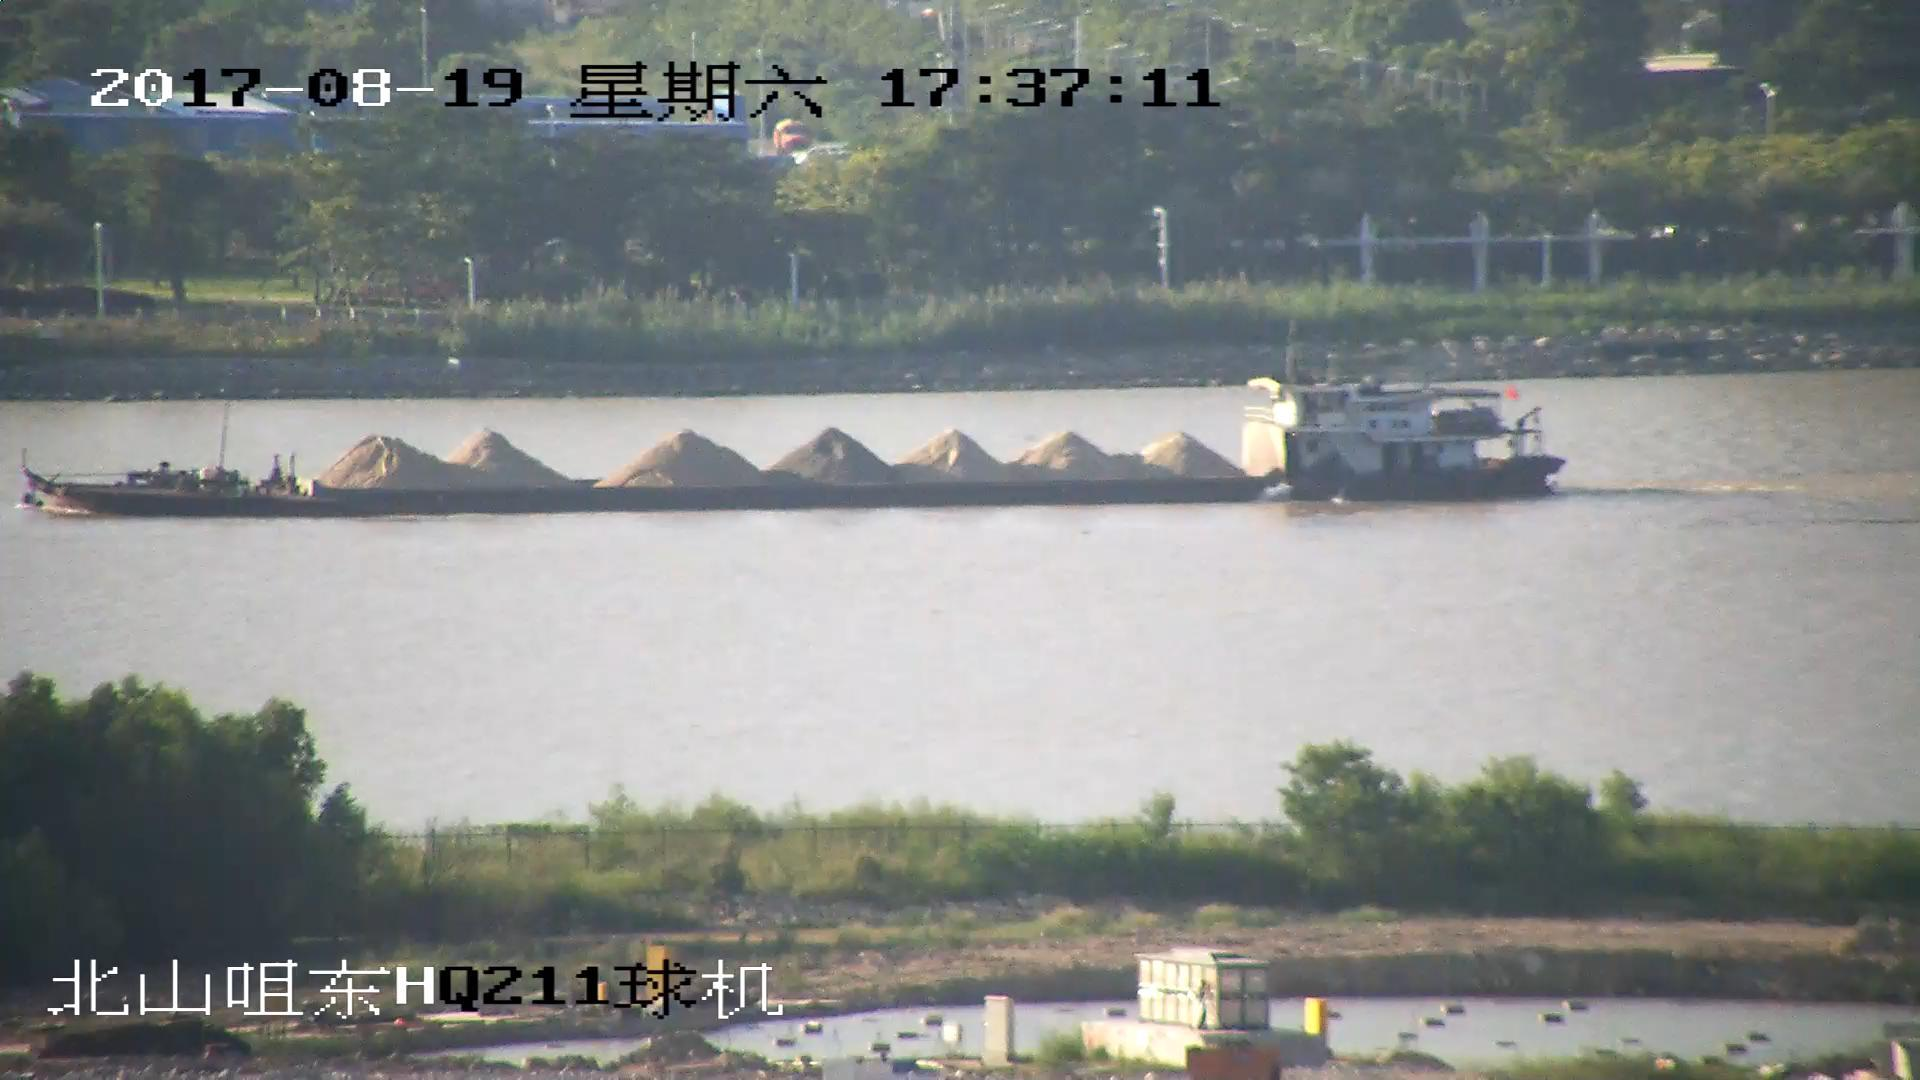Ship: (15, 347, 1571, 513)
